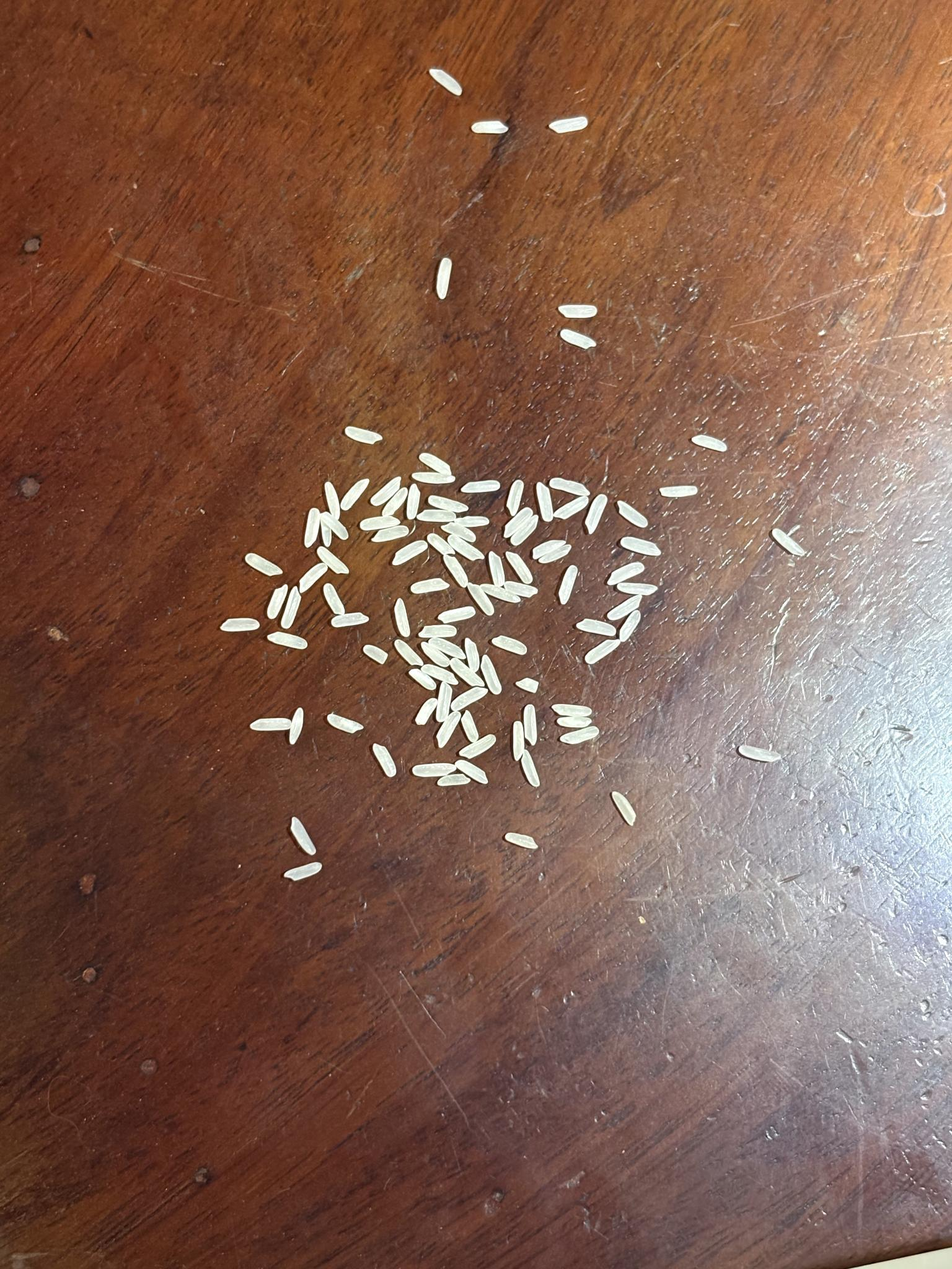Rice-th-y-nh: (450, 658, 485, 688), (290, 817, 316, 855), (429, 67, 463, 96), (507, 720, 530, 761), (448, 535, 484, 561), (611, 790, 637, 826), (317, 546, 349, 575), (505, 551, 533, 584), (467, 583, 495, 616), (738, 743, 782, 764), (298, 563, 328, 593), (460, 734, 496, 759), (584, 639, 620, 664), (451, 686, 487, 711), (371, 477, 402, 506), (504, 507, 533, 538), (437, 711, 461, 748), (480, 655, 502, 695), (607, 595, 642, 620), (245, 553, 283, 576), (341, 479, 369, 510), (772, 529, 804, 556), (281, 588, 302, 629), (427, 637, 466, 659), (421, 663, 458, 686), (510, 516, 539, 545), (434, 682, 455, 722), (585, 495, 607, 533), (606, 563, 644, 585), (372, 744, 397, 777), (443, 554, 468, 587), (455, 759, 488, 784), (481, 583, 520, 604), (560, 725, 599, 746), (393, 541, 427, 565), (394, 639, 423, 667), (382, 488, 408, 518), (558, 565, 578, 604), (322, 583, 346, 615), (267, 631, 307, 650), (521, 704, 540, 744), (321, 512, 348, 540), (618, 501, 647, 527), (554, 497, 588, 519), (412, 762, 456, 779), (420, 643, 451, 667), (549, 115, 588, 134), (520, 750, 540, 787), (576, 619, 617, 637), (420, 453, 452, 476), (441, 522, 476, 543), (621, 537, 661, 555), (550, 478, 590, 496), (491, 635, 527, 655), (267, 585, 288, 619), (619, 610, 641, 642), (439, 605, 476, 624), (393, 598, 411, 637), (327, 714, 363, 733), (560, 330, 596, 349), (429, 495, 467, 513), (371, 525, 409, 543), (533, 539, 567, 559), (304, 507, 321, 547), (324, 482, 342, 519), (285, 862, 322, 880), (488, 551, 506, 587), (460, 710, 480, 742), (360, 515, 400, 531), (552, 702, 592, 718), (537, 483, 553, 522), (415, 698, 438, 725), (427, 533, 455, 555), (539, 545, 571, 564), (436, 258, 451, 298), (346, 427, 381, 444), (506, 480, 523, 515), (692, 435, 727, 452), (409, 668, 436, 690), (463, 639, 481, 672), (289, 707, 305, 744), (411, 578, 448, 594), (221, 617, 260, 632), (557, 714, 593, 730), (419, 624, 457, 639), (505, 832, 538, 849), (617, 582, 657, 596), (331, 612, 368, 627), (414, 472, 455, 485), (559, 304, 597, 318), (406, 484, 421, 519), (250, 718, 290, 731), (417, 509, 456, 522), (472, 120, 508, 134), (505, 582, 538, 597), (461, 480, 499, 493), (363, 644, 388, 663), (437, 773, 469, 787), (660, 486, 697, 497), (516, 677, 540, 693), (320, 519, 333, 547), (455, 516, 488, 527)
